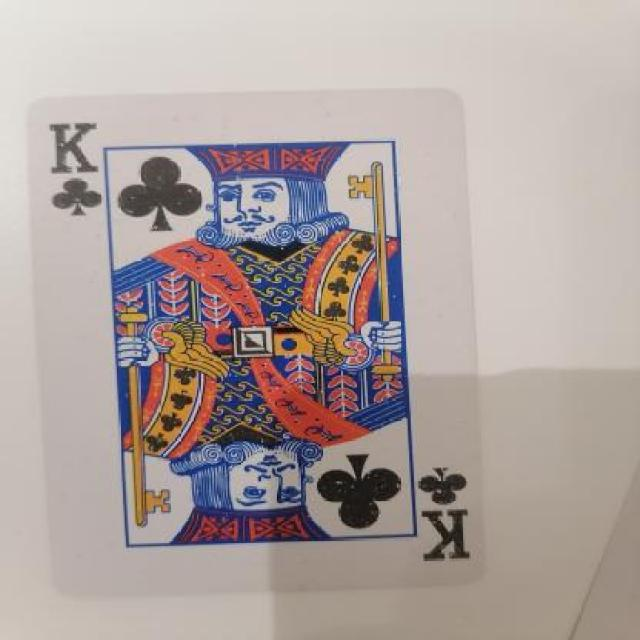KC: (35, 114, 127, 229), (417, 449, 485, 569)
